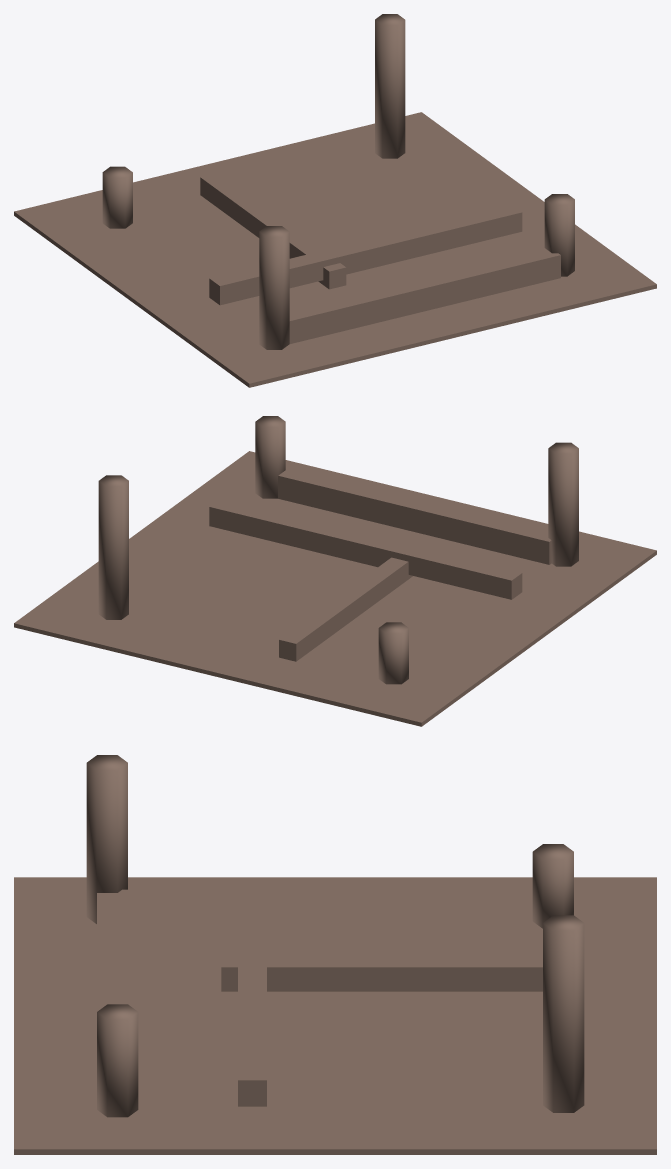
Rendered from ruin-wood.glb.
3 renders of one model, top to bottom at view 1: azimuth 30°, elevation 25°; view 2: azimuth 150°, elevation 25°; view 3: azimuth 270°, elevation 25°, orthographic. The views are drawn at different scales.
Visible parts, largest first — view 1: ruin-wood_char; view 2: ruin-wood_char; view 3: ruin-wood_char.
Part boxes in pixels (box(x1,y1,x2,y2)): ruin-wood_char: box(14, 14, 656, 387); ruin-wood_char: box(14, 416, 656, 726); ruin-wood_char: box(14, 755, 656, 1154).
Bounding box in the file's own units: 2.07 × 0.6667 × 2.07.
